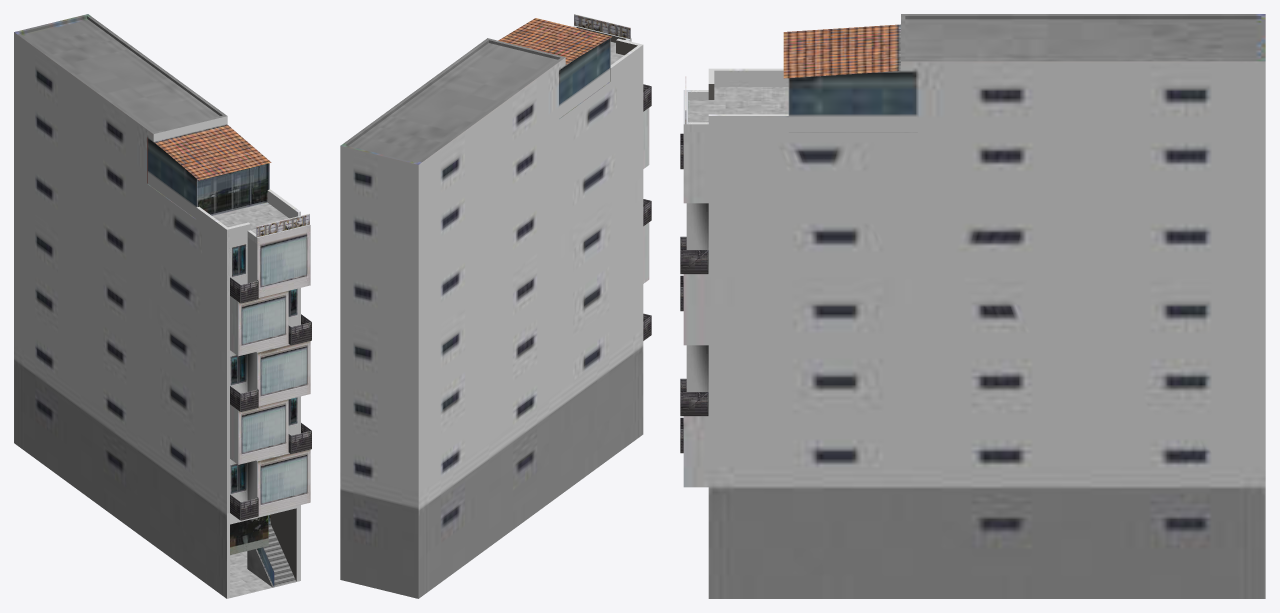
The picture shows the model from 3 angles, left to right: view 1: azimuth 30°, elevation 25°; view 2: azimuth 150°, elevation 25°; view 3: azimuth 270°, elevation 25°; orthographic projection. The views are drawn at different scales.
Visible parts, largest first — view 1: 5d6f0fda42f9710560798fc8.001; view 2: 5d6f0fda42f9710560798fc8.001; view 3: 5d6f0fda42f9710560798fc8.001.
Part boxes in pixels (x1,y1,x2,y2): 5d6f0fda42f9710560798fc8.001: [14, 14, 311, 598]; 5d6f0fda42f9710560798fc8.001: [340, 14, 651, 598]; 5d6f0fda42f9710560798fc8.001: [680, 14, 1265, 598].
Bounding box in the file's own units: 5 × 26.5 × 26.15.
Materials: 1 (1 with a texture image).
